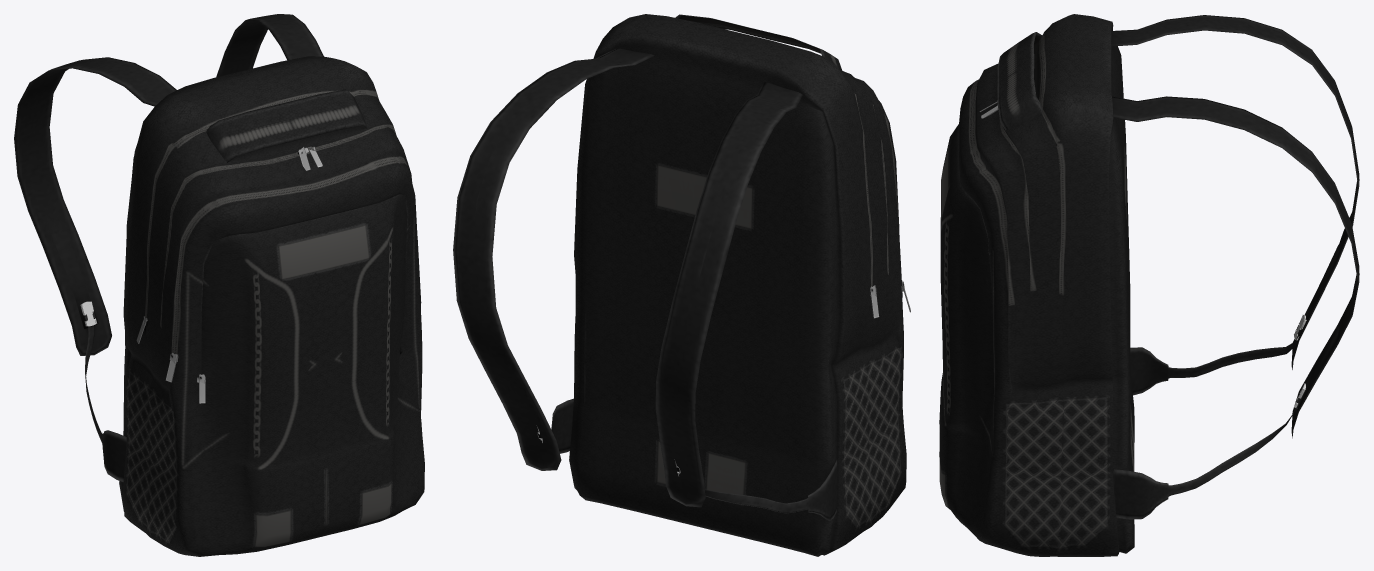
Rendered from LaptopBag.obj.
3 views of the same model, side by side, from view 1: azimuth 30°, elevation 25°; view 2: azimuth 150°, elevation 25°; view 3: azimuth 270°, elevation 25° (orthographic). The views are drawn at different scales.
Parts seen in each view (by area): view 1: backpack_Cube; view 2: backpack_Cube; view 3: backpack_Cube.
Part boxes in pixels (x1,y1,x2,y2): backpack_Cube: (14, 14, 424, 556); backpack_Cube: (453, 14, 910, 556); backpack_Cube: (939, 14, 1359, 556).
Size of the model in its own units: 187 by 300 by 254.
